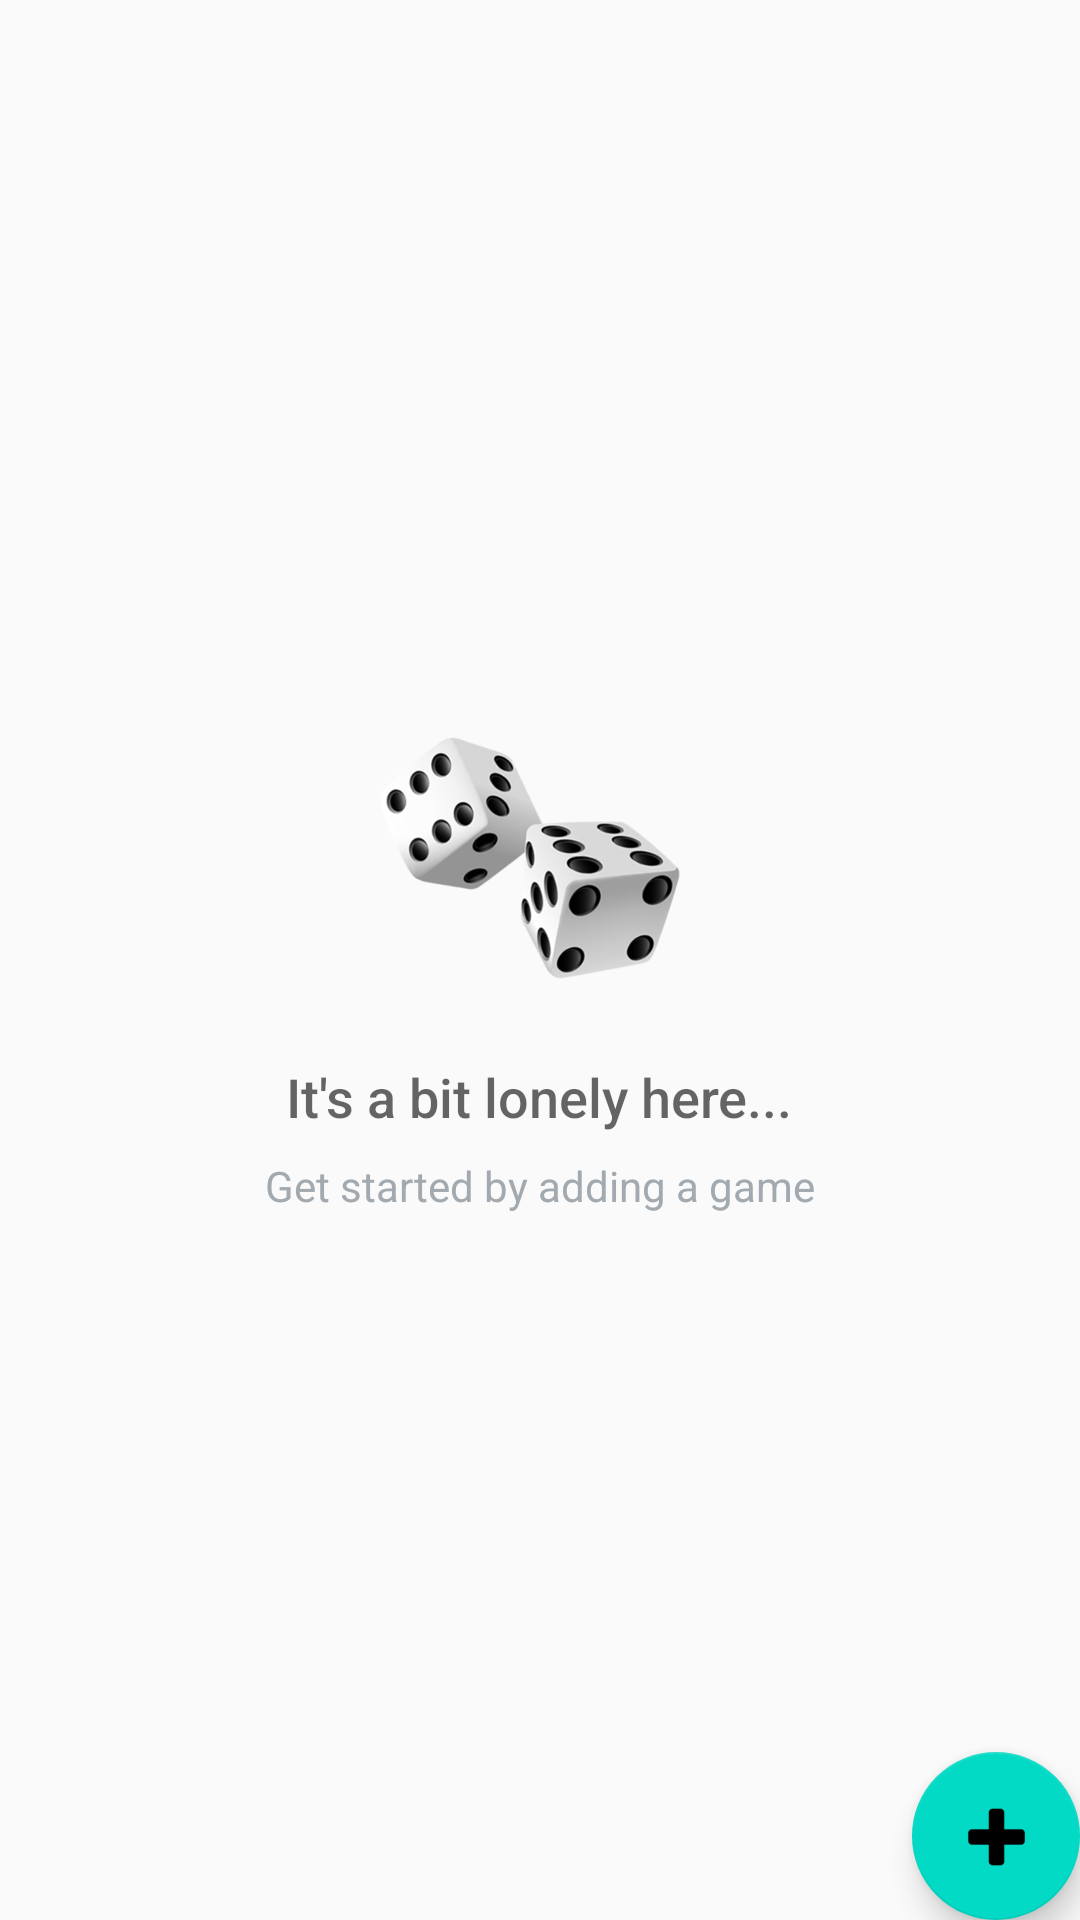

Screen size 1080 × 1920. Icon name, then its box in pixels as (x1, y1, x2, y2):
add game: (912, 1752, 1080, 1920)
dice: (386, 738, 680, 978)
